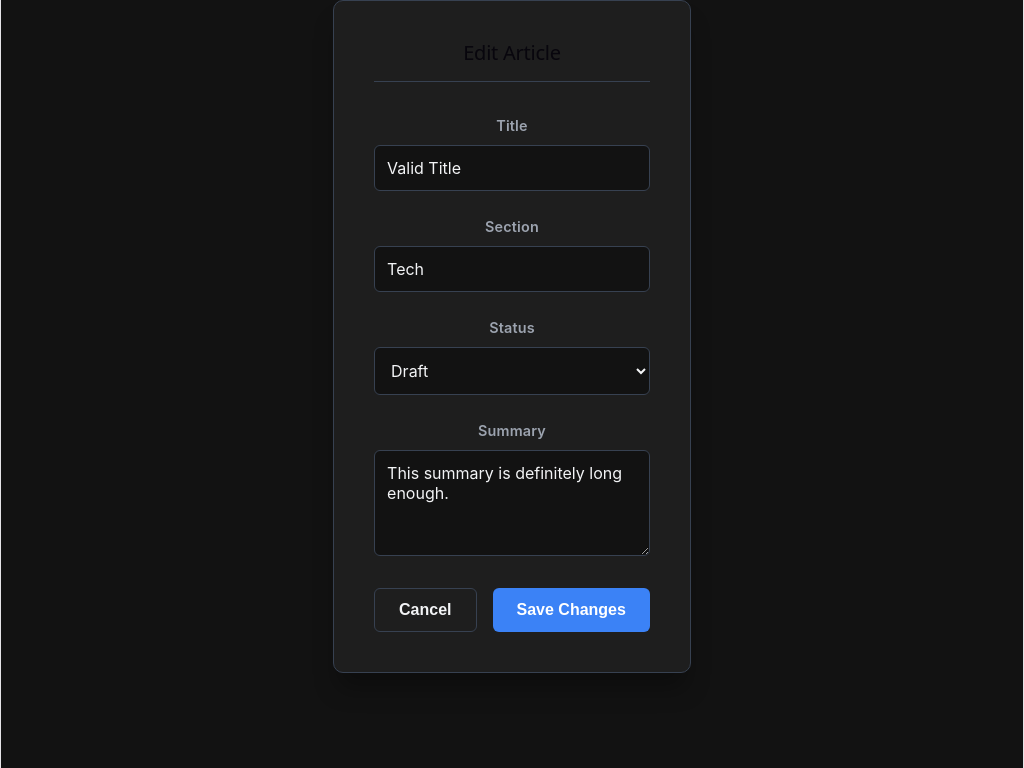
Test: Article Review App Requirements › 3. prevents submission and shows validation error when title is empty
This screenshot has width=1024, height=768.
# Clear the title input
Clear the field labelled "Title": x=512, y=168 374,145 -> 650,191
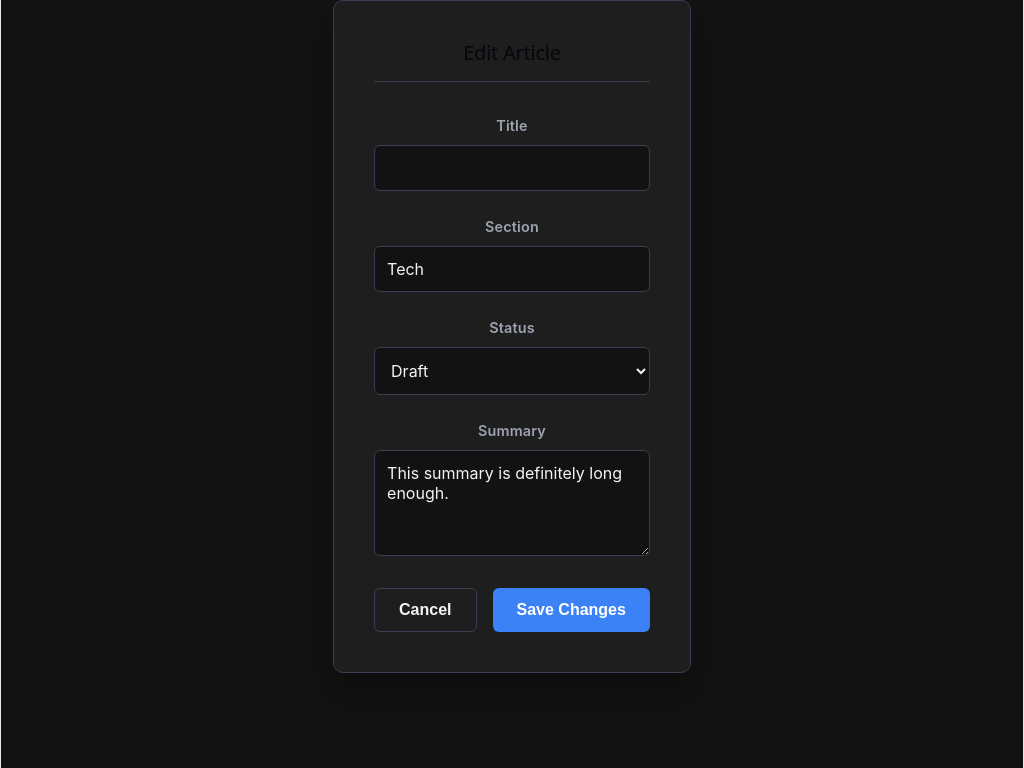
# Attempt to submit
Click the button "Save Changes": x=571, y=610 492,588 -> 650,632
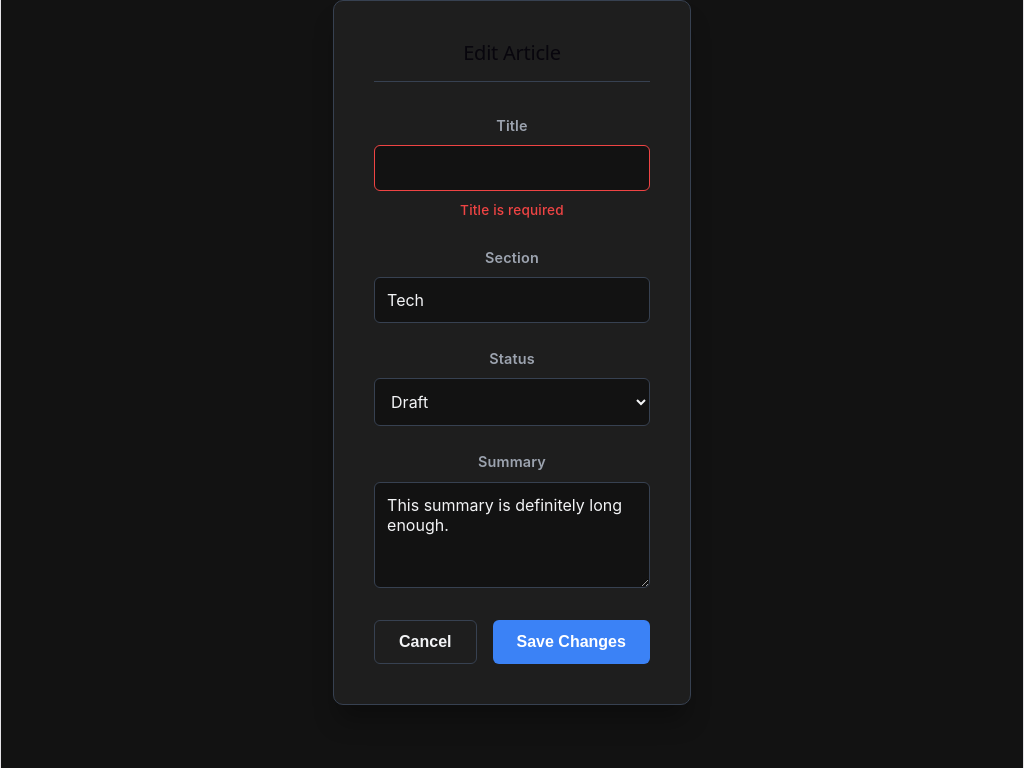
Now the text "Title is required" is shown, box 460,202 -> 564,218
